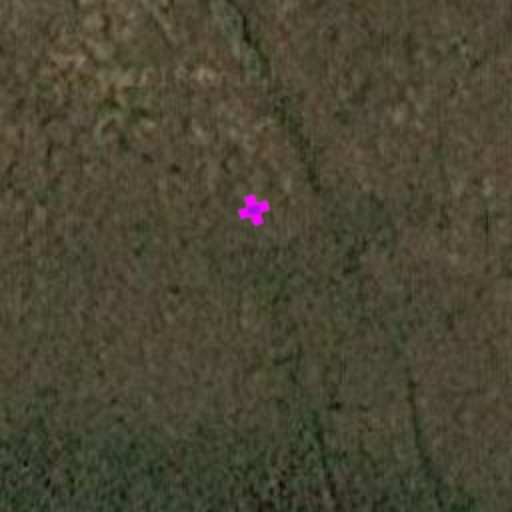cross: (234, 190, 274, 230)
